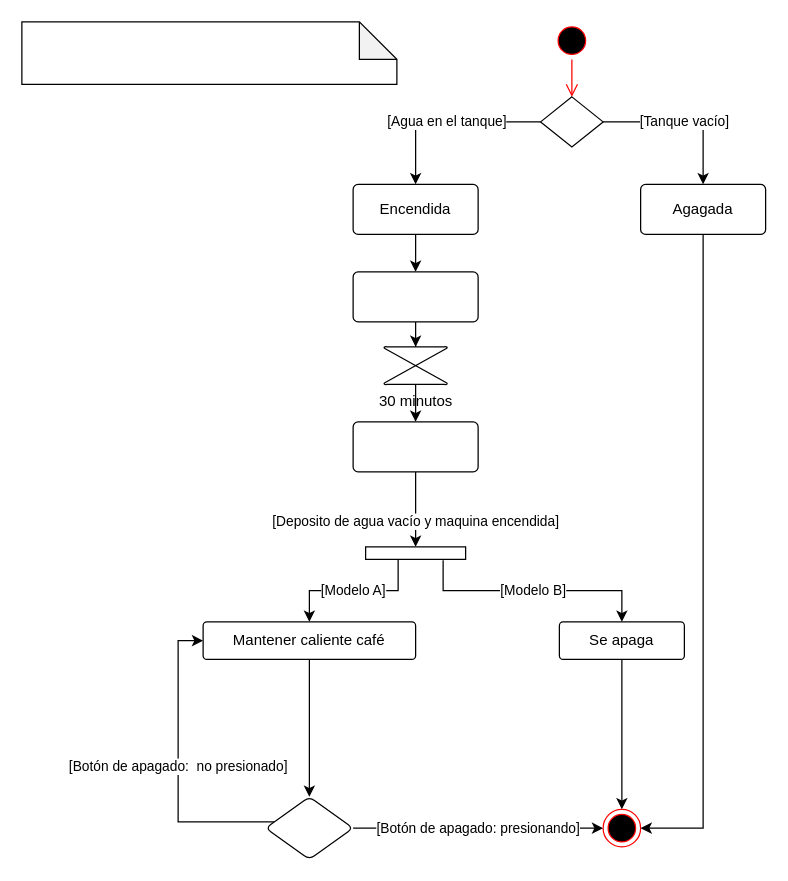
This 788x881 diagram has some shape labels left out. The shapes that lost their labels are listed below. From the top down, each one's centre as x and y in pixels, then its label:
At point 209,52: "Karen Brigith Gonzaga Rivas".
At point 415,296: "El agua se calienta".
At point 415,446: "Café hecho".
